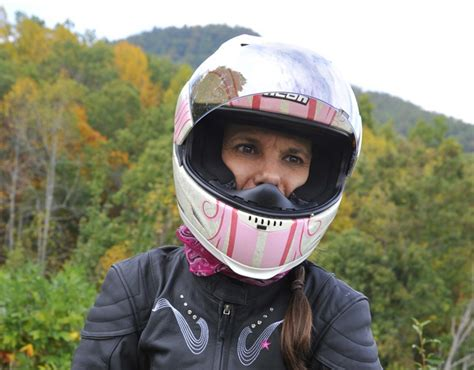com_capacete: (171, 32, 362, 282)
